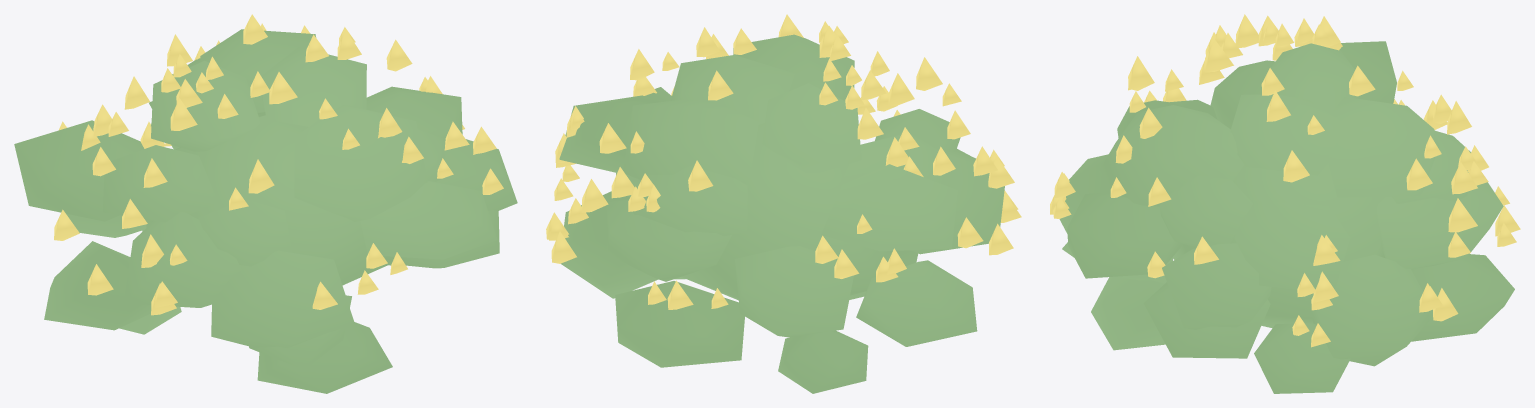
Rendered from Blender_Gorse_1_Far.glb.
3 views of the same model, side by side, from view 1: azimuth 30°, elevation 25°; view 2: azimuth 150°, elevation 25°; view 3: azimuth 270°, elevation 25° (orthographic). The views are drawn at different scales.
Parts seen in each view (by area): view 1: Blender_Gorse_1_Far; view 2: Blender_Gorse_1_Far; view 3: Blender_Gorse_1_Far.
Part boxes in pixels (x1,y1,x2,y2): Blender_Gorse_1_Far: [14, 14, 517, 393]; Blender_Gorse_1_Far: [546, 14, 1021, 393]; Blender_Gorse_1_Far: [1050, 14, 1520, 393].
Bounding box in the file's own units: 2.55 × 1.68 × 2.41.
